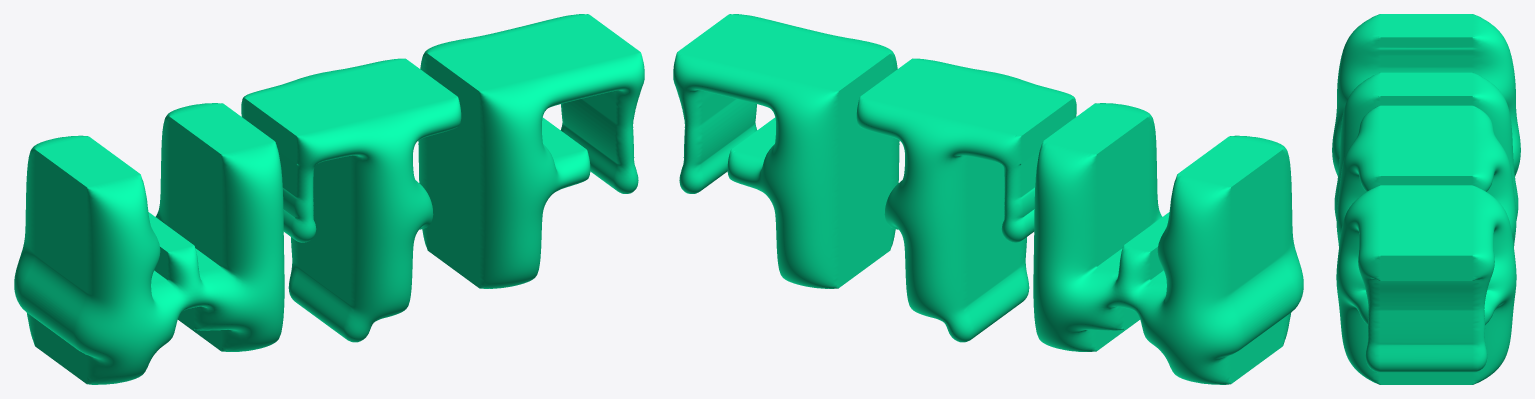
The model's file is WTF-Snot.gltf.
3 renders of one model, left to right at view 1: azimuth 30°, elevation 25°; view 2: azimuth 150°, elevation 25°; view 3: azimuth 270°, elevation 25°, orthographic. The views are drawn at different scales.
Size of the model in its own units: 0.0633 by 0.0233 by 0.0204.
